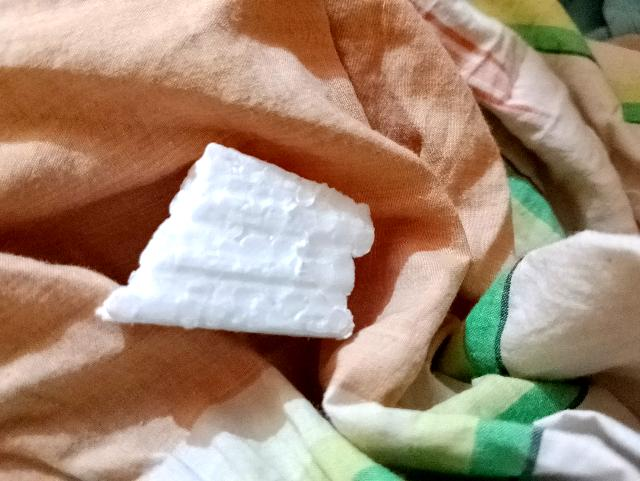cocksheet: (103, 124, 401, 414)
